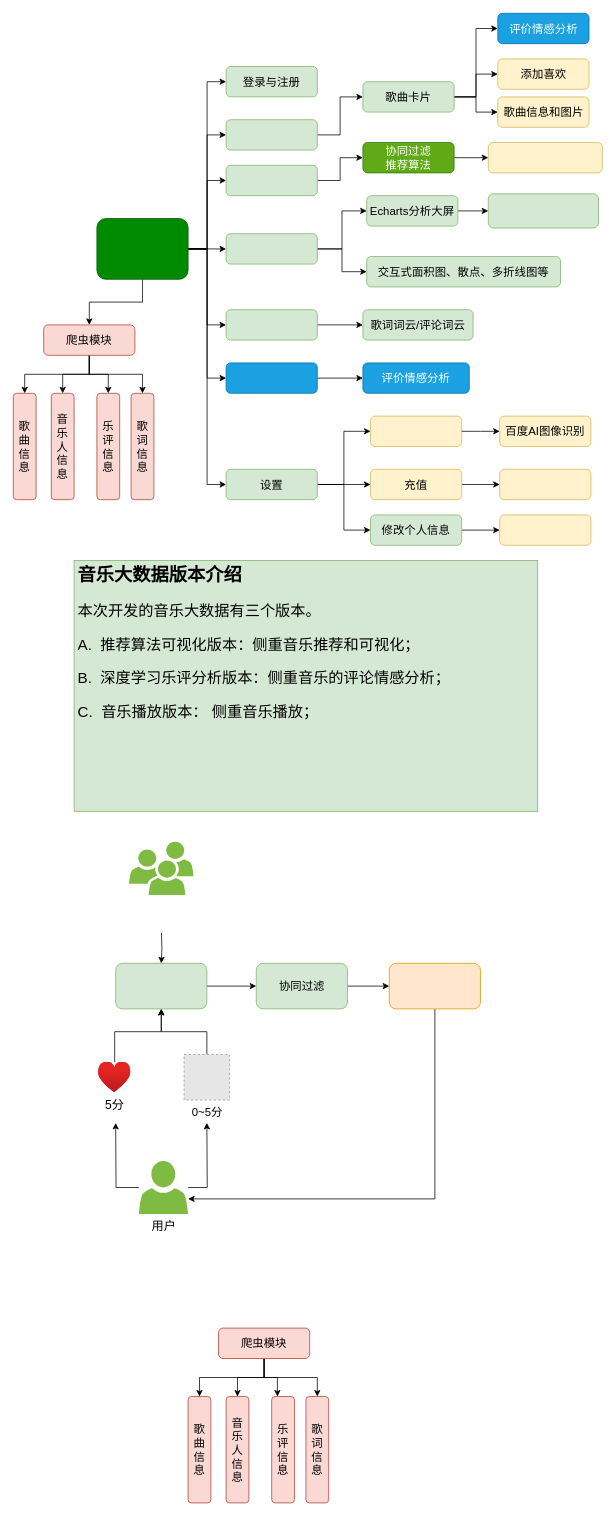
The diagram is 616 pixels wide and 1516 high, and some of its shapes have lost their labels. Grey dashed boxes stand in for pictures. Here are the shapes that lost their labels. From the top down, the centre of each, then its label:
At (x=271, y=134): "首页".
At (x=545, y=157): "ItemCF/UserCF推荐".
At (x=271, y=180): "歌曲库".
At (x=543, y=210): "水滴、动态柱状图、饼图、折线图..".
At (x=142, y=248): "深度学习 音乐大数据 可视化平台【B】".
At (x=271, y=248): "可视化".
At (x=271, y=324): "词云".
At (x=271, y=377): "深度学习 情感分析模型".
At (x=416, y=430): "身份证识别".
At (x=545, y=484): "支付宝沙箱支付".
At (x=545, y=529): "阿里短信验证码修改密码".
At (x=161, y=868): "N个其他用户的评分".
At (x=161, y=986): "评分数据集".
At (x=434, y=986): "推荐".
